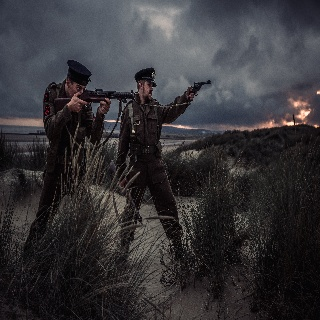pistol: (192, 77, 214, 93)
rifle: (54, 87, 143, 111)
